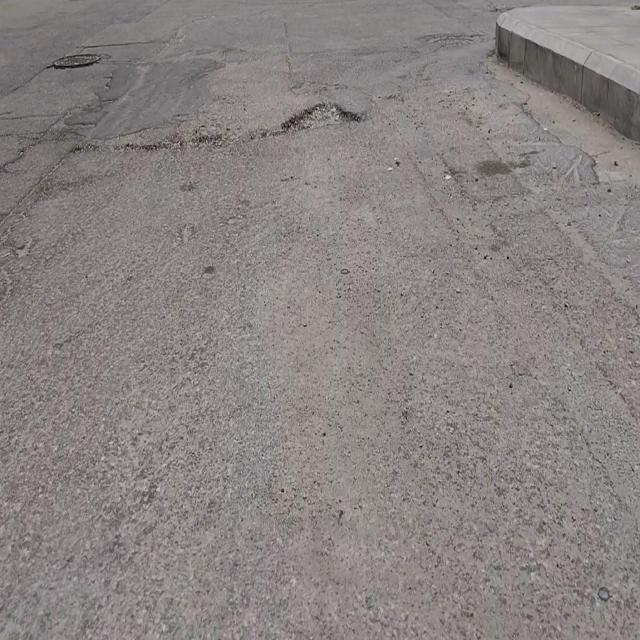Potholes: (277, 96, 365, 137)
